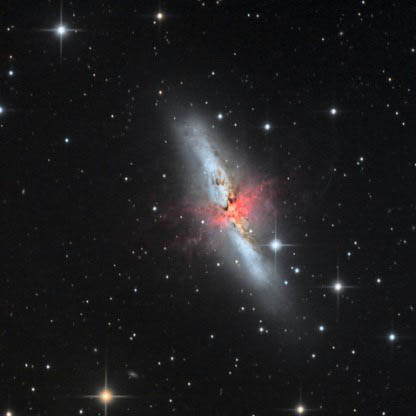Messier 82: (148, 88, 307, 323)
